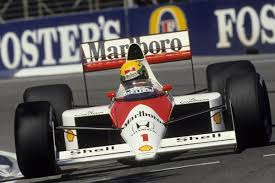f1_car: (10, 26, 275, 182)
